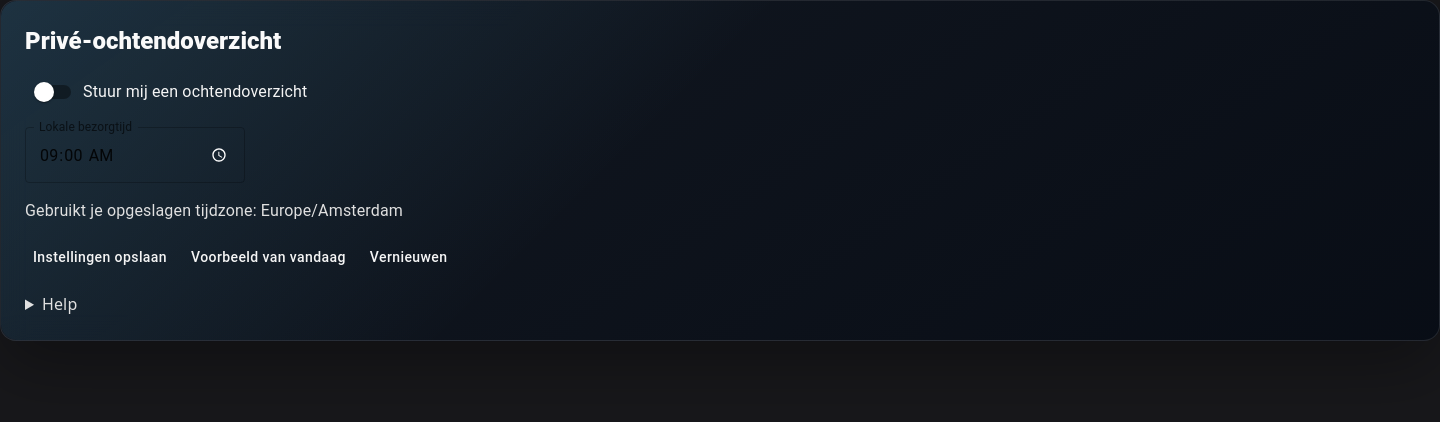
private briefing settings panel › shows off by default and saves explicit opt-in in nl
The image size is (1440, 422).
Step 1. Click the switch labelled "Stuur mij een ochtendoverzicht" → (171, 92), box [34, 82, 308, 102]
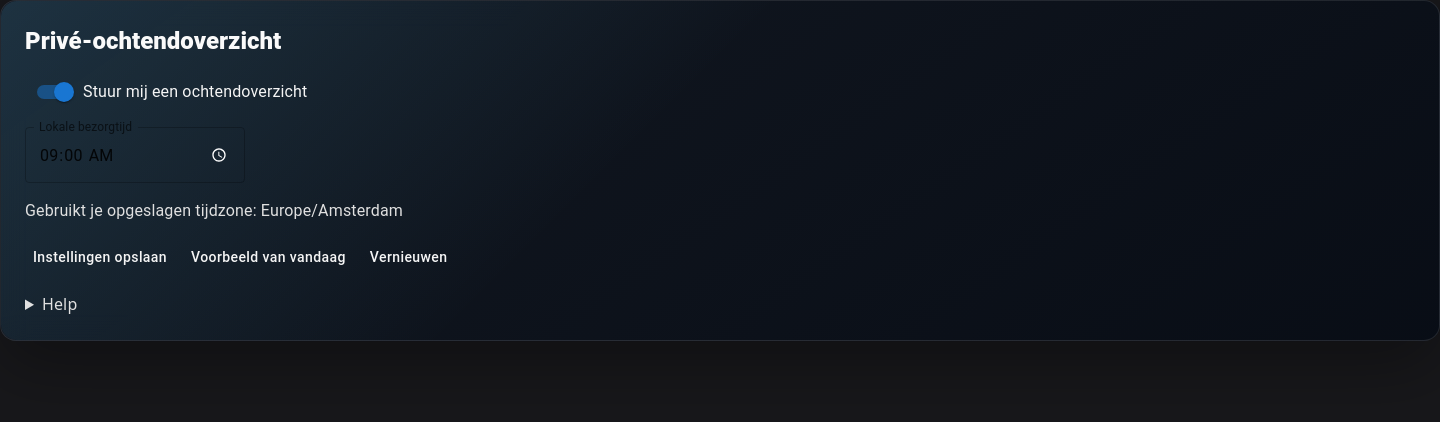
Step 2. Click the button "Instellingen opslaan" → (100, 257), box [25, 239, 175, 276]
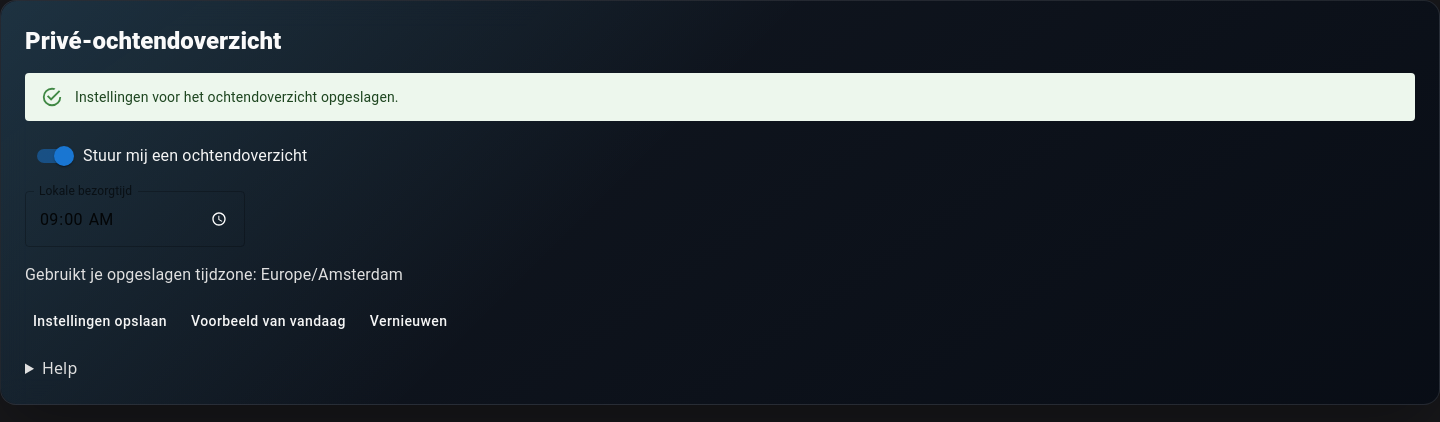
Expected: the text "Instellingen voor het ochtendoverzicht opgeslagen." is shown, [75, 89, 399, 105]
